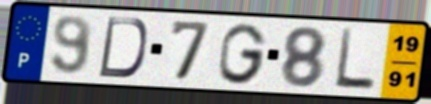7: (168, 18, 216, 83)
8: (277, 24, 329, 90)
9: (50, 13, 93, 77)
D: (95, 14, 150, 80)
G: (217, 21, 270, 86)
L: (332, 27, 378, 93)
